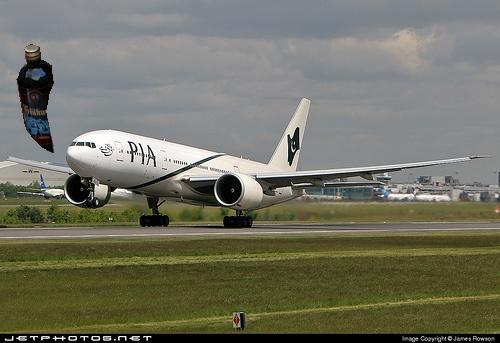tampered: (17, 45, 54, 153)
